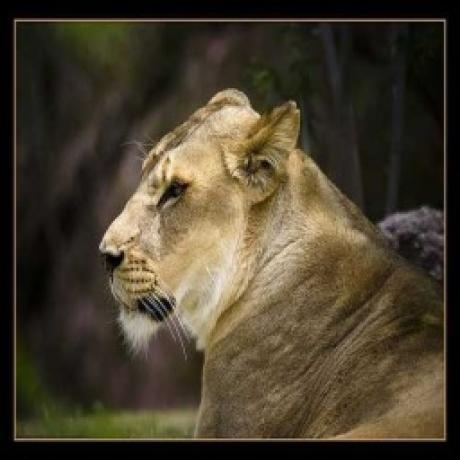Lion: (98, 76, 446, 441)
